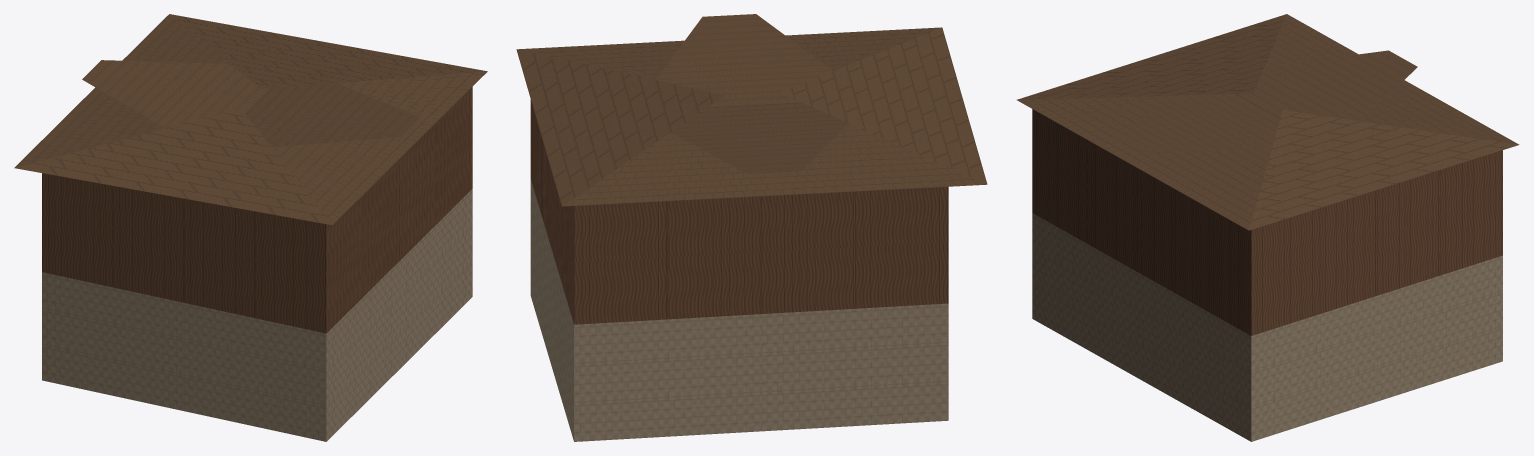
File: bld_c7_9_490.gltf
3 views of the same model, side by side, from view 1: azimuth 30°, elevation 25°; view 2: azimuth 150°, elevation 25°; view 3: azimuth 270°, elevation 25° (orthographic). The views are drawn at different scales.
Visible parts, largest first — view 1: bld_c7_9_490; view 2: bld_c7_9_490; view 3: bld_c7_9_490.
Boxes of the visible parts, x1,y1,x2,y2 form: bld_c7_9_490: (14, 14, 487, 441); bld_c7_9_490: (516, 14, 987, 441); bld_c7_9_490: (1017, 14, 1519, 441).
Size of the model in its own units: 22.4 by 11.5 by 21.98.
3 materials, 3 textured.
